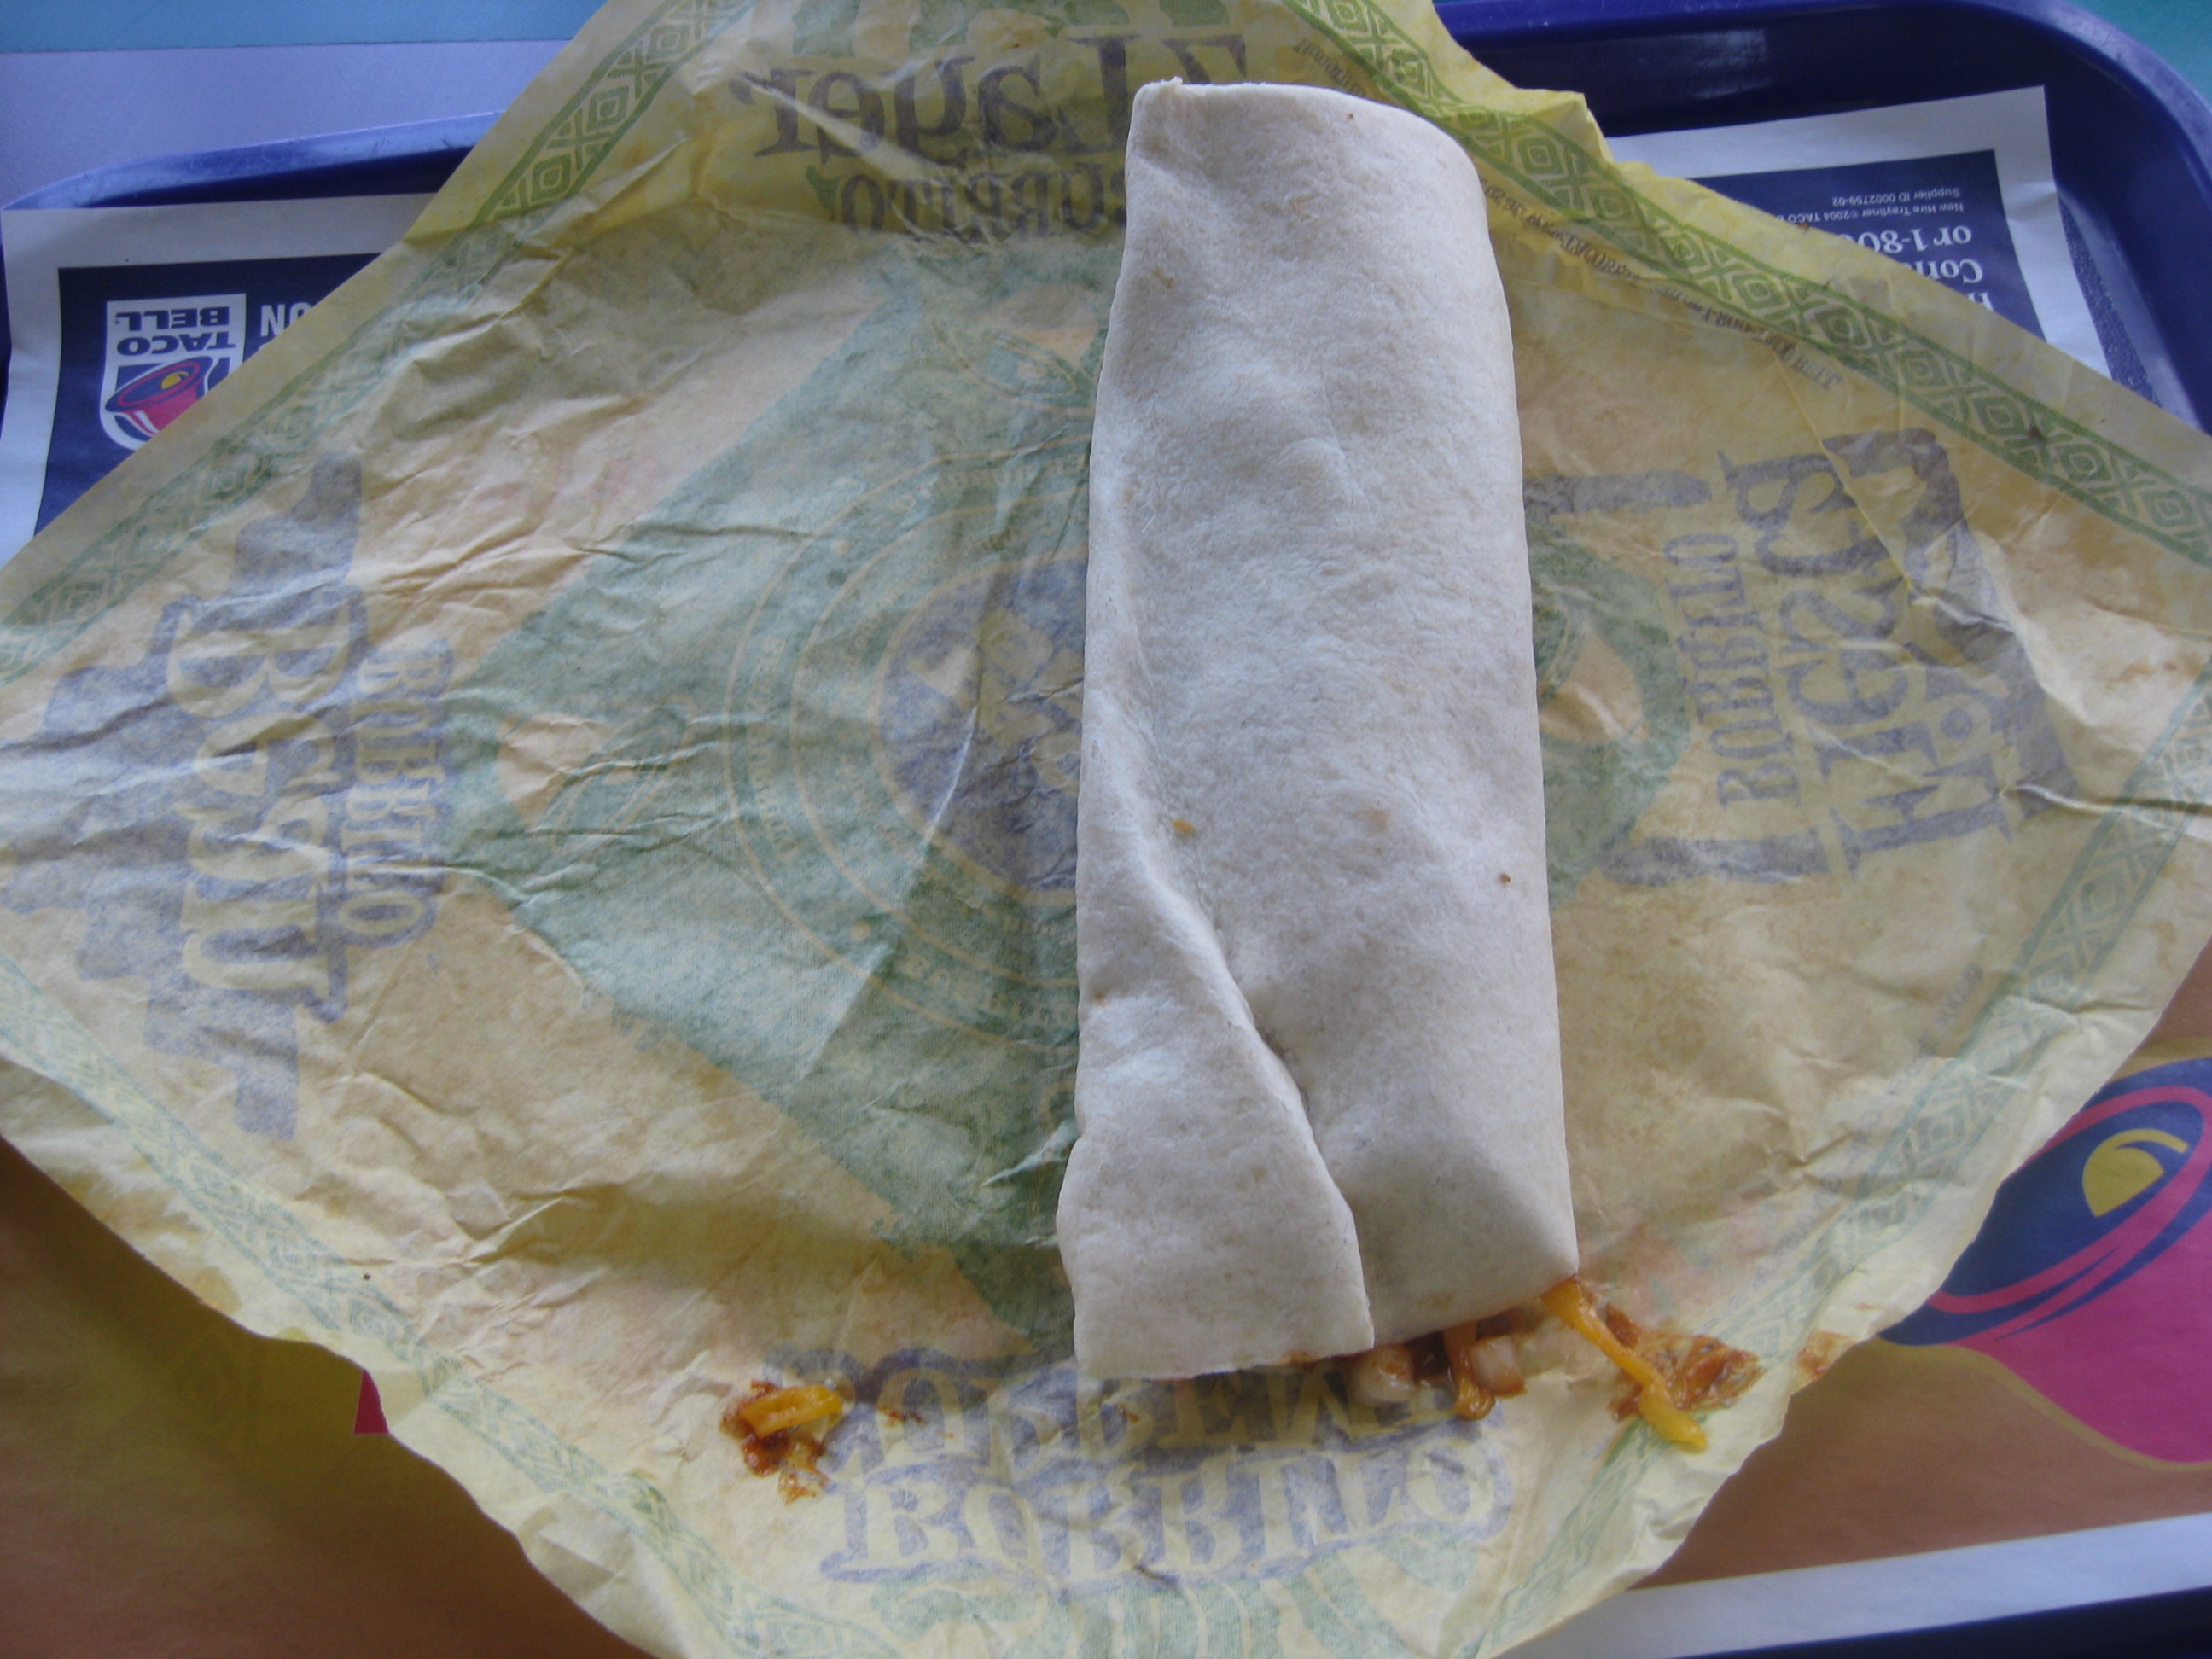burrito: (1045, 50, 1644, 1406)
